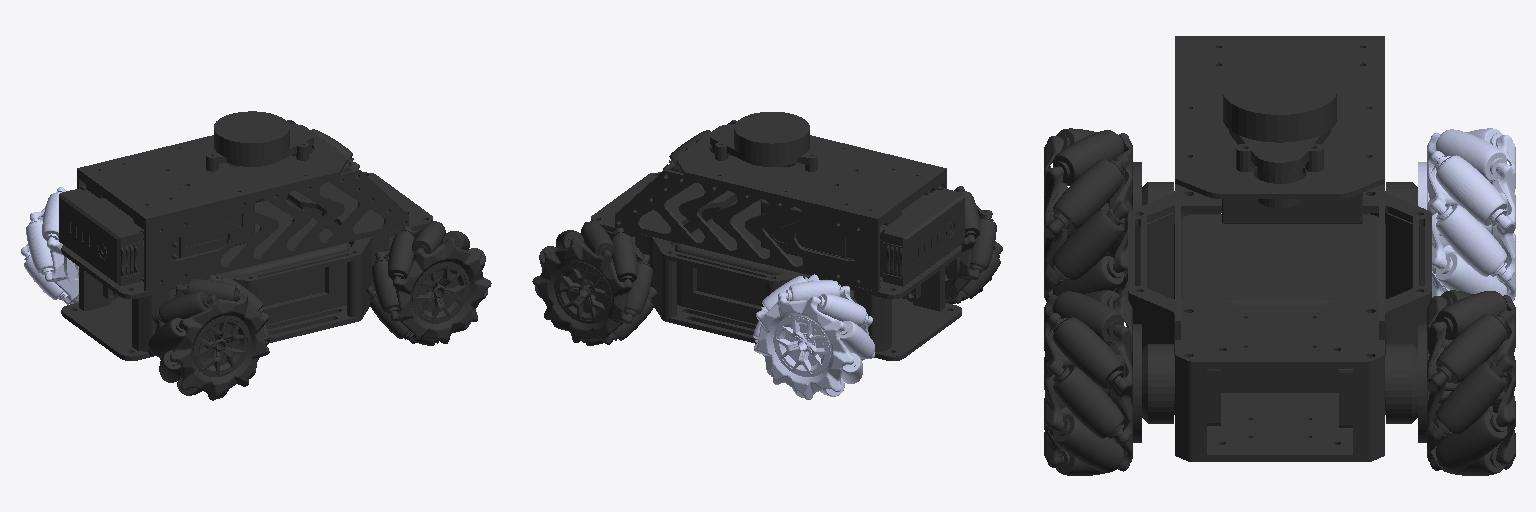
URDF robot description (rosrobot_sim):
<?xml version="1.0" encoding="utf-8"?>
<!-- This URDF was automatically created by SolidWorks to URDF Exporter! Originally created by Stephen Brawner (brawner@gmail.com) 
     Commit Version: 1.6.0-4-g7f85cfe  Build Version: 1.6.7995.38578
     For more information, please see http://wiki.ros.org/sw_urdf_exporter -->
<robot
  name="rosrobot_sim">
  <link
    name="base_link">
    <inertial>
      <origin
        xyz="-0.0634548342489047 0.00252646636126208 0.0698650204082221"
        rpy="0 0 0" />
      <mass
        value="5.13417093168915" />
      <inertia
        ixx="0.00410808595452553"
        ixy="-0.000292462656101399"
        ixz="8.29051442761703E-06"
        iyy="0.0104893857413111"
        iyz="-6.66586128915449E-06"
        izz="0.0131038952107179" />
    </inertial>
    <visual>
      <origin
        xyz="0 0 0"
        rpy="0 0 0" />
      <geometry>
        <mesh
          filename="package://rosrobot_sim/meshes/base_link.STL" />
      </geometry>
      <material
        name="">
        <color
          rgba="0.250980392156863 0.250980392156863 0.250980392156863 1" />
      </material>
    </visual>
    <collision>
      <origin
        xyz="0 0 0"
        rpy="0 0 0" />
      <geometry>
        <mesh
          filename="package://rosrobot_sim/meshes/base_link.STL" />
      </geometry>
    </collision>
  </link>
  <link
    name="lf_wheel_link">
    <inertial>
      <origin
        xyz="8.65748908267516E-05 0.0281222042539539 -2.20847668757074E-05"
        rpy="0 0 0" />
      <mass
        value="1.06314279889598" />
      <inertia
        ixx="0.00018668571891743"
        ixy="2.42387322222023E-07"
        ixz="-3.55689724914497E-07"
        iyy="0.000238848964171898"
        iyz="-7.36447324789651E-08"
        izz="0.000185303562146464" />
    </inertial>
    <visual>
      <origin
        xyz="0 0 0"
        rpy="0 0 0" />
      <geometry>
        <mesh
          filename="package://rosrobot_sim/meshes/lf_wheel_link.STL" />
      </geometry>
      <material
        name="">
        <color
          rgba="0.250980392156863 0.250980392156863 0.250980392156863 1" />
      </material>
    </visual>
    <collision>
      <origin
        xyz="0 0 0"
        rpy="0 0 0" />
      <geometry>
        <mesh
          filename="package://rosrobot_sim/meshes/lf_wheel_link.STL" />
      </geometry>
    </collision>
  </link>
  <joint
    name="lf_wheel_jonit"
    type="continuous">
    <origin
      xyz="0.1 0.072 0.029"
      rpy="0 0 0" />
    <parent
      link="base_link" />
    <child
      link="lf_wheel_link" />
    <axis
      xyz="0 -1 0" />
  </joint>
  <link
    name="lb_wheel_link">
    <inertial>
      <origin
        xyz="-4.61927307402465E-05 0.0280397090885058 7.66443294870633E-05"
        rpy="0 0 0" />
      <mass
        value="1.06474386084149" />
      <inertia
        ixx="0.0001857042371068"
        ixy="-1.45695755507224E-07"
        ixz="-7.11806969537973E-07"
        iyy="0.000238920846811695"
        iyz="2.19174561736813E-07"
        izz="0.000186403458971456" />
    </inertial>
    <visual>
      <origin
        xyz="0 0 0"
        rpy="0 0 0" />
      <geometry>
        <mesh
          filename="package://rosrobot_sim/meshes/lb_wheel_link.STL" />
      </geometry>
      <material
        name="">
        <color
          rgba="0.792156862745098 0.819607843137255 0.933333333333333 1" />
      </material>
    </visual>
    <collision>
      <origin
        xyz="0 0 0"
        rpy="0 0 0" />
      <geometry>
        <mesh
          filename="package://rosrobot_sim/meshes/lb_wheel_link.STL" />
      </geometry>
    </collision>
  </link>
  <joint
    name="lb_wheel_joint"
    type="continuous">
    <origin
      xyz="-0.1 0.072 0.029"
      rpy="0 0 0" />
    <parent
      link="base_link" />
    <child
      link="lb_wheel_link" />
    <axis
      xyz="0 -1 0" />
  </joint>
  <link
    name="rf_wheel_link">
    <inertial>
      <origin
        xyz="4.61931398310078E-05 -0.0280397094022453 7.66407284877868E-05"
        rpy="0 0 0" />
      <mass
        value="1.0647438886535" />
      <inertia
        ixx="0.000185704242291002"
        ixy="-1.45684340774816E-07"
        ixz="7.11799582573926E-07"
        iyy="0.000238920849707385"
        iyz="-2.19176061206229E-07"
        izz="0.000186403463640893" />
    </inertial>
    <visual>
      <origin
        xyz="0 0 0"
        rpy="0 0 0" />
      <geometry>
        <mesh
          filename="package://rosrobot_sim/meshes/rf_wheel_link.STL" />
      </geometry>
      <material
        name="">
        <color
          rgba="0.250980392156863 0.250980392156863 0.250980392156863 1" />
      </material>
    </visual>
    <collision>
      <origin
        xyz="0 0 0"
        rpy="0 0 0" />
      <geometry>
        <mesh
          filename="package://rosrobot_sim/meshes/rf_wheel_link.STL" />
      </geometry>
    </collision>
  </link>
  <joint
    name="rf_wheel_joint"
    type="continuous">
    <origin
      xyz="0.1 -0.072 0.029"
      rpy="0 0 0" />
    <parent
      link="base_link" />
    <child
      link="rf_wheel_link" />
    <axis
      xyz="0 1 0" />
  </joint>
  <link
    name="rb_wheel_link">
    <inertial>
      <origin
        xyz="-8.65747843654674E-05 -0.028122204310629 -2.20824471356407E-05"
        rpy="0 0 0" />
      <mass
        value="1.06314280255916" />
      <inertia
        ixx="0.000186685718095326"
        ixy="2.42396374876509E-07"
        ixz="3.55683757061976E-07"
        iyy="0.000238848963969221"
        iyz="7.36425628263023E-08"
        izz="0.000185303566000341" />
    </inertial>
    <visual>
      <origin
        xyz="0 0 0"
        rpy="0 0 0" />
      <geometry>
        <mesh
          filename="package://rosrobot_sim/meshes/rb_wheel_link.STL" />
      </geometry>
      <material
        name="">
        <color
          rgba="0.250980392156863 0.250980392156863 0.250980392156863 1" />
      </material>
    </visual>
    <collision>
      <origin
        xyz="0 0 0"
        rpy="0 0 0" />
      <geometry>
        <mesh
          filename="package://rosrobot_sim/meshes/rb_wheel_link.STL" />
      </geometry>
    </collision>
  </link>
  <joint
    name="rb_wheel_joint"
    type="continuous">
    <origin
      xyz="-0.1 -0.072 0.029"
      rpy="0 0 0" />
    <parent
      link="base_link" />
    <child
      link="rb_wheel_link" />
    <axis
      xyz="0 1 0" />
  </joint>
  <link
    name="laser">
    <inertial>
      <origin
        xyz="0.00783926957028203 -1.11022302462516E-16 0.00178199997616213"
        rpy="0 0 0" />
      <mass
        value="0.0762511324739251" />
      <inertia
        ixx="2.09190936070587E-05"
        ixy="-2.17235448397227E-20"
        ixz="8.21629717682672E-06"
        iyy="4.20175201867689E-05"
        iyz="6.27776776524839E-21"
        izz="4.9205638670391E-05" />
    </inertial>
    <visual>
      <origin
        xyz="0 0 0"
        rpy="0 0 0" />
      <geometry>
        <mesh
          filename="package://rosrobot_sim/meshes/laser.STL" />
      </geometry>
      <material
        name="">
        <color
          rgba="0.250980392156863 0.250980392156863 0.250980392156863 1" />
      </material>
    </visual>
    <collision>
      <origin
        xyz="0 0 0"
        rpy="0 0 0" />
      <geometry>
        <mesh
          filename="package://rosrobot_sim/meshes/laser.STL" />
      </geometry>
    </collision>
  </link>
  <joint
    name="lidar_joint"
    type="fixed">
    <origin
      xyz="-0.0038842 0 0.1334"
      rpy="0 0 0" />
    <parent
      link="base_link" />
    <child
      link="laser" />
    <axis
      xyz="0 0 0" />
  </joint>
</robot>

--- Render facts (derived) ---
Views: 3 orthographic renders of the robot side by side, from view 1: azimuth 30°, elevation 25°; view 2: azimuth 150°, elevation 25°; view 3: azimuth 270°, elevation 25°.
Robot: rosrobot_sim — 6 links, 5 joints (4 continuous, 1 fixed); root link base_link; default pose: every joint at zero.
Visible links, largest first — view 1: base_link, rb_wheel_link, rf_wheel_link, laser, lb_wheel_link; view 2: base_link, lb_wheel_link, lf_wheel_link, laser, rb_wheel_link; view 3: base_link, lf_wheel_link, rf_wheel_link, lb_wheel_link, rb_wheel_link, laser.
Boxes of the visible links, box(x1,y1,x2,y2) form: base_link: box(59, 120, 432, 360); rb_wheel_link: box(148, 274, 270, 400); rf_wheel_link: box(366, 221, 491, 345); laser: box(206, 111, 313, 171); lb_wheel_link: box(21, 187, 78, 304); base_link: box(591, 120, 964, 360); lb_wheel_link: box(753, 274, 874, 399); lf_wheel_link: box(532, 221, 657, 345); laser: box(710, 112, 817, 171); rb_wheel_link: box(945, 186, 1002, 303); base_link: box(1128, 36, 1431, 461); lf_wheel_link: box(1418, 290, 1515, 475); rf_wheel_link: box(1044, 290, 1141, 475); lb_wheel_link: box(1418, 128, 1515, 300); rb_wheel_link: box(1044, 128, 1141, 301); laser: box(1223, 66, 1336, 207).
Size in the robot's own frame: 0.3021 by 0.246 by 0.1692 metres.
6 mesh visuals loaded from 6 distinct referenced files (6 binary STL).
